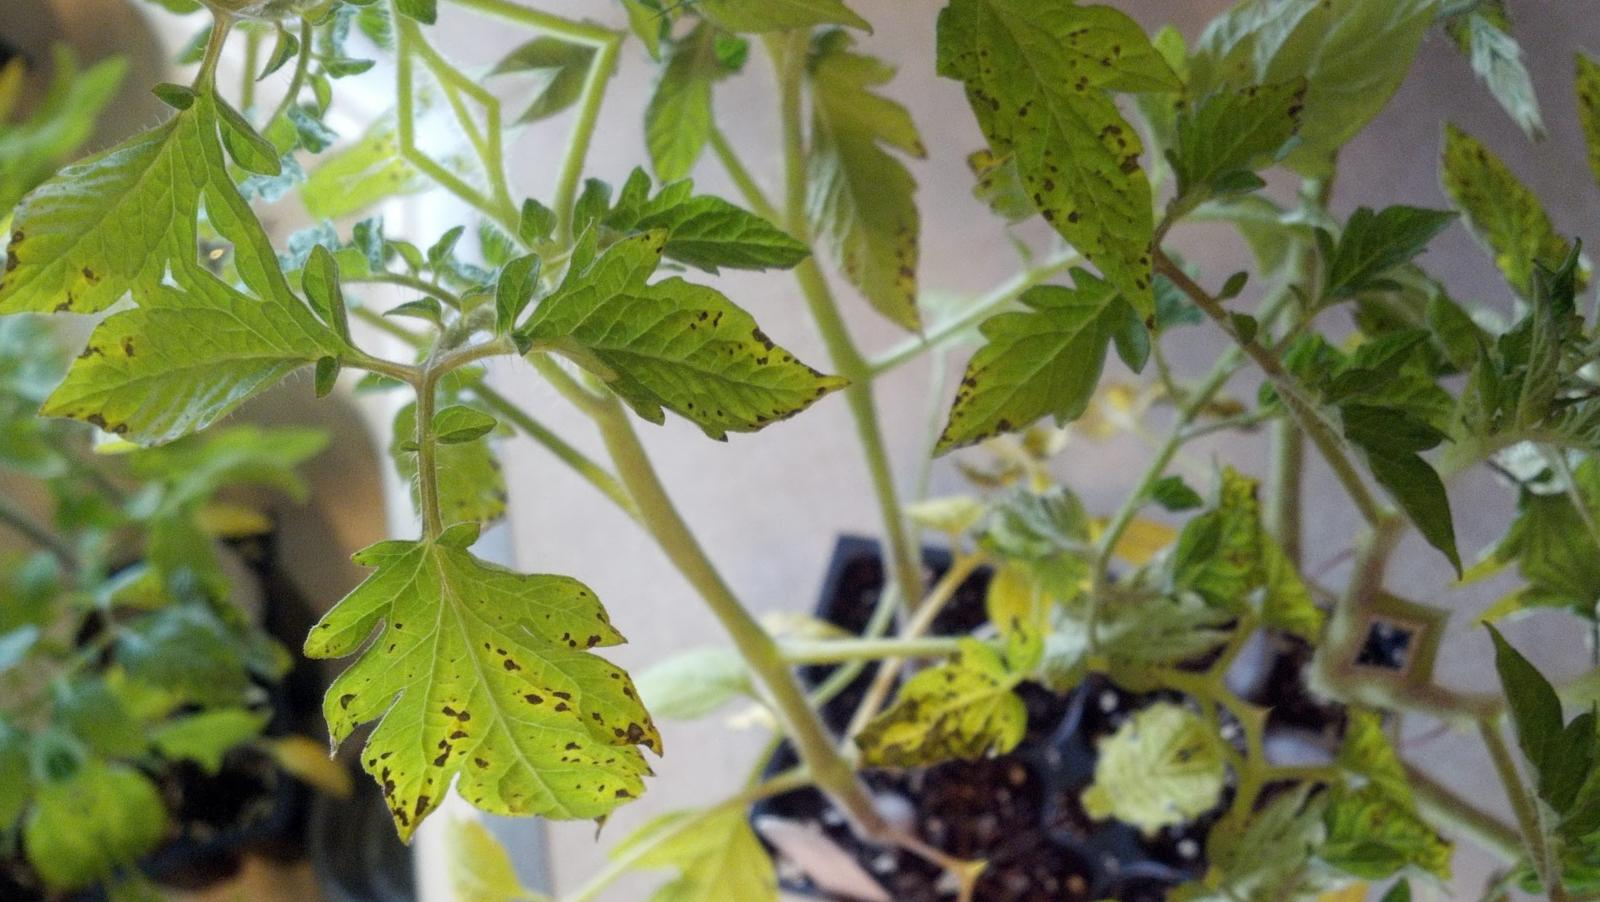Tomato Septoria leaf spot: (268, 476, 731, 902), (879, 0, 1300, 391), (473, 151, 877, 531), (870, 225, 1221, 521), (812, 605, 1070, 840)
